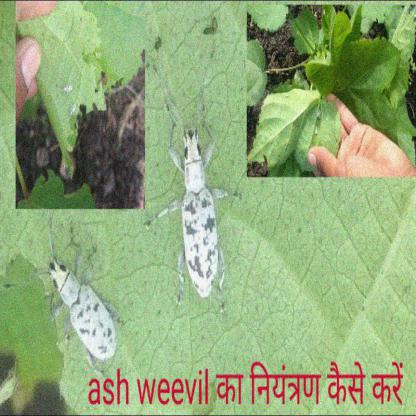ash weevil: (150, 127, 232, 298), (46, 260, 117, 364)
